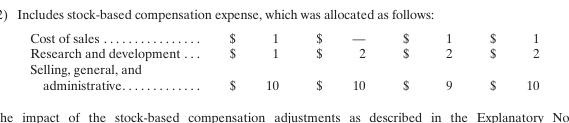table: (29, 29, 538, 92)
table column: (29, 29, 204, 92), (204, 29, 296, 92), (296, 29, 383, 92), (383, 29, 470, 92), (470, 29, 538, 92)
table column header: (29, 29, 538, 44)
table row: (29, 60, 538, 92), (29, 44, 538, 60), (29, 29, 538, 44)
